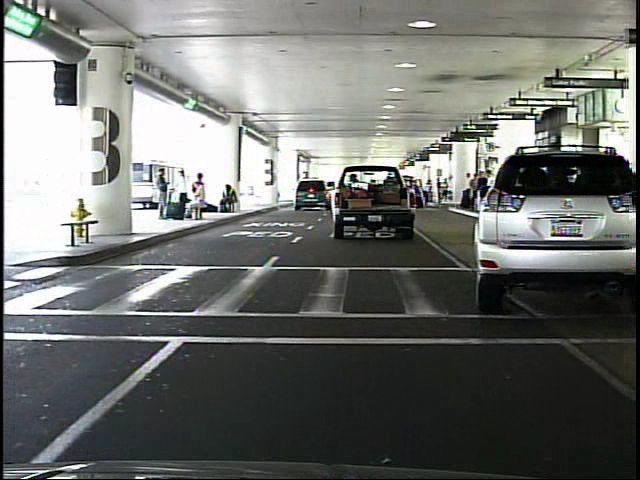person: (153, 166, 173, 220)
